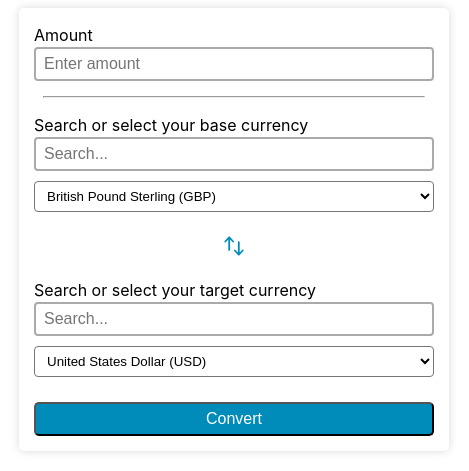
CurrencyConverter › performs currency conversion and displays result
Type "100" into the field labelled "Amount".
click(234, 64); type("100")  # box [34,47,434,81]
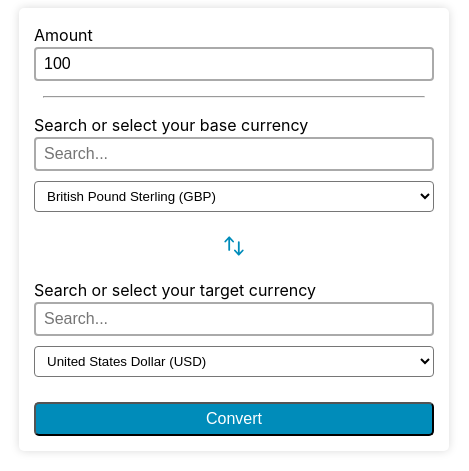
Select "British Pound Sterling (GBP)" in the dropdown with test id "base-currency" at (234, 196), box [34,181,434,212]
Select "United States Dollar (USD)" in the dropdown with test id "target-currency" at (234, 362), box [34,346,434,377]
Click the button "Convert".
click(234, 419)  # box [34,402,434,436]
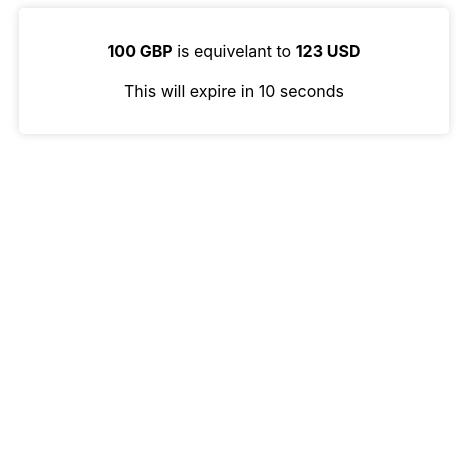
Expected: the element with test id "conversion-display" is shown, [107,41,360,101]
